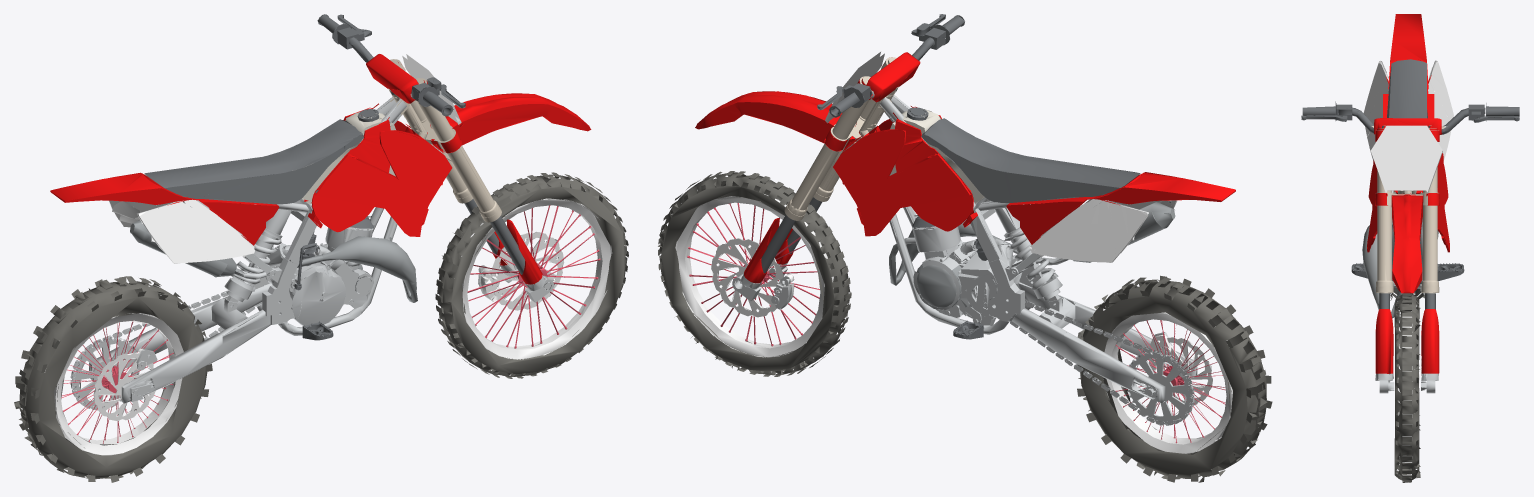
The model's file is veh-mx.glb.
3 views of the same model, side by side, from view 1: azimuth 30°, elevation 25°; view 2: azimuth 150°, elevation 25°; view 3: azimuth 270°, elevation 25° (orthographic). The views are drawn at different scales.
Parts seen in each view (by area): view 1: Object_13, Object_15, Object_3, Object_14, Object_2, Object_12, Object_11, Object_16, Object_4, Object_5, Object_10, Object_6; view 2: Object_13, Object_15, Object_3, Object_14, Object_2, Object_12, Object_11, Object_16, Object_4, Object_7, Object_6, Object_10 (+1 smaller); view 3: Object_15, Object_12, Object_14, Object_13, Object_5, Object_7, Object_16, Object_3, Object_6, Object_4, Object_2.
Part boxes in pixels (<box>): Object_13: <box>14,172,628,482</box>; Object_15: <box>50,54,591,284</box>; Object_3: <box>70,94,554,410</box>; Object_14: <box>144,14,524,340</box>; Object_2: <box>54,198,612,455</box>; Object_12: <box>109,54,461,263</box>; Object_11: <box>61,205,600,443</box>; Object_16: <box>130,220,417,302</box>; Object_4: <box>72,102,517,408</box>; Object_5: <box>400,62,498,213</box>; Object_10: <box>292,112,395,204</box>; Object_6: <box>389,78,501,222</box>; Object_13: <box>658,171,1272,482</box>; Object_15: <box>695,52,1235,283</box>; Object_3: <box>769,91,1197,425</box>; Object_14: <box>761,14,1140,339</box>; Object_2: <box>675,194,1232,453</box>; Object_12: <box>825,52,1177,262</box>; Object_11: <box>687,203,1225,443</box>; Object_16: <box>889,200,1175,309</box>; Object_4: <box>732,144,1192,424</box>; Object_7: <box>784,76,875,220</box>; Object_6: <box>813,57,897,201</box>; Object_10: <box>889,109,992,203</box>; Object_15: <box>1367,14,1449,373</box>; Object_12: <box>1363,60,1453,193</box>; Object_14: <box>1301,59,1519,309</box>; Object_13: <box>1390,288,1424,482</box>; Object_5: <box>1376,130,1438,286</box>; Object_7: <box>1421,125,1444,292</box>; Object_16: <box>1362,76,1421,318</box>; Object_3: <box>1375,126,1447,393</box>; Object_6: <box>1371,125,1437,293</box>; Object_4: <box>1421,223,1438,393</box>; Object_2: <box>1398,312,1419,462</box>.
Bounding box in the file's own units: 157 × 88.02 × 56.03.
